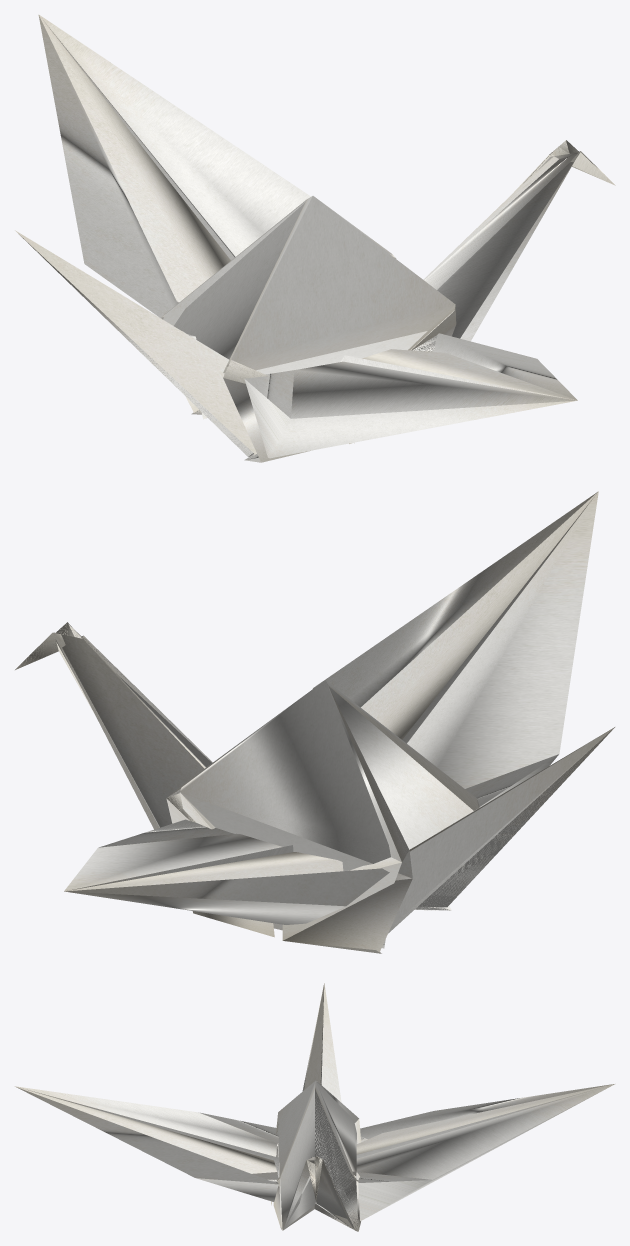
The model's file is birdbodyDin.fbx.
The picture shows the model from 3 angles, top to bottom: view 1: azimuth 30°, elevation 25°; view 2: azimuth 150°, elevation 25°; view 3: azimuth 270°, elevation 25°; orthographic projection. The views are drawn at different scales.
Parts seen in each view (by area): view 1: Cube, Plane_1_2, Plane_2_3, Plane, Plane_1, Plane_2, Plane_3_2, Plane_3, Plane_2_2, Cube_2; view 2: Cube_2, Plane_2_3, Plane_1_2, Plane, Plane_3, Plane_2, Plane_1, Cube, Plane_2_2, Plane_3_2; view 3: Plane_1_2, Plane_2_3, Cube, Plane_1, Plane, Cube_2, Plane_3, Plane_2, Plane_2_2.
Boxes of the visible parts, x1,y1,x2,y2 form: Cube: [161, 196, 456, 462]; Plane_1_2: [38, 15, 310, 339]; Plane_2_3: [245, 333, 577, 443]; Plane: [244, 335, 577, 458]; Plane_1: [39, 15, 235, 419]; Plane_2: [15, 230, 256, 456]; Plane_3_2: [425, 141, 609, 341]; Plane_3: [423, 140, 615, 289]; Plane_2_2: [19, 234, 254, 456]; Cube_2: [162, 196, 455, 459]; Cube_2: [166, 680, 479, 953]; Plane_2_3: [313, 491, 598, 806]; Plane_1_2: [64, 820, 389, 944]; Plane: [361, 491, 598, 807]; Plane_3: [15, 622, 212, 827]; Plane_2: [388, 727, 614, 933]; Plane_1: [65, 819, 385, 948]; Cube: [167, 682, 451, 953]; Plane_2_2: [392, 731, 610, 924]; Plane_3_2: [19, 622, 211, 829]; Plane_1_2: [356, 1084, 614, 1182]; Plane_2_3: [15, 1086, 278, 1184]; Cube: [273, 1081, 361, 1231]; Plane_1: [356, 1084, 612, 1221]; Plane: [15, 1086, 278, 1205]; Cube_2: [277, 1081, 360, 1230]; Plane_3: [283, 1156, 353, 1229]; Plane_2: [302, 983, 341, 1102]; Plane_2_2: [304, 987, 340, 1101].
Size of the model in its own units: 712 by 292 by 1101.
1 material, 1 textured.
